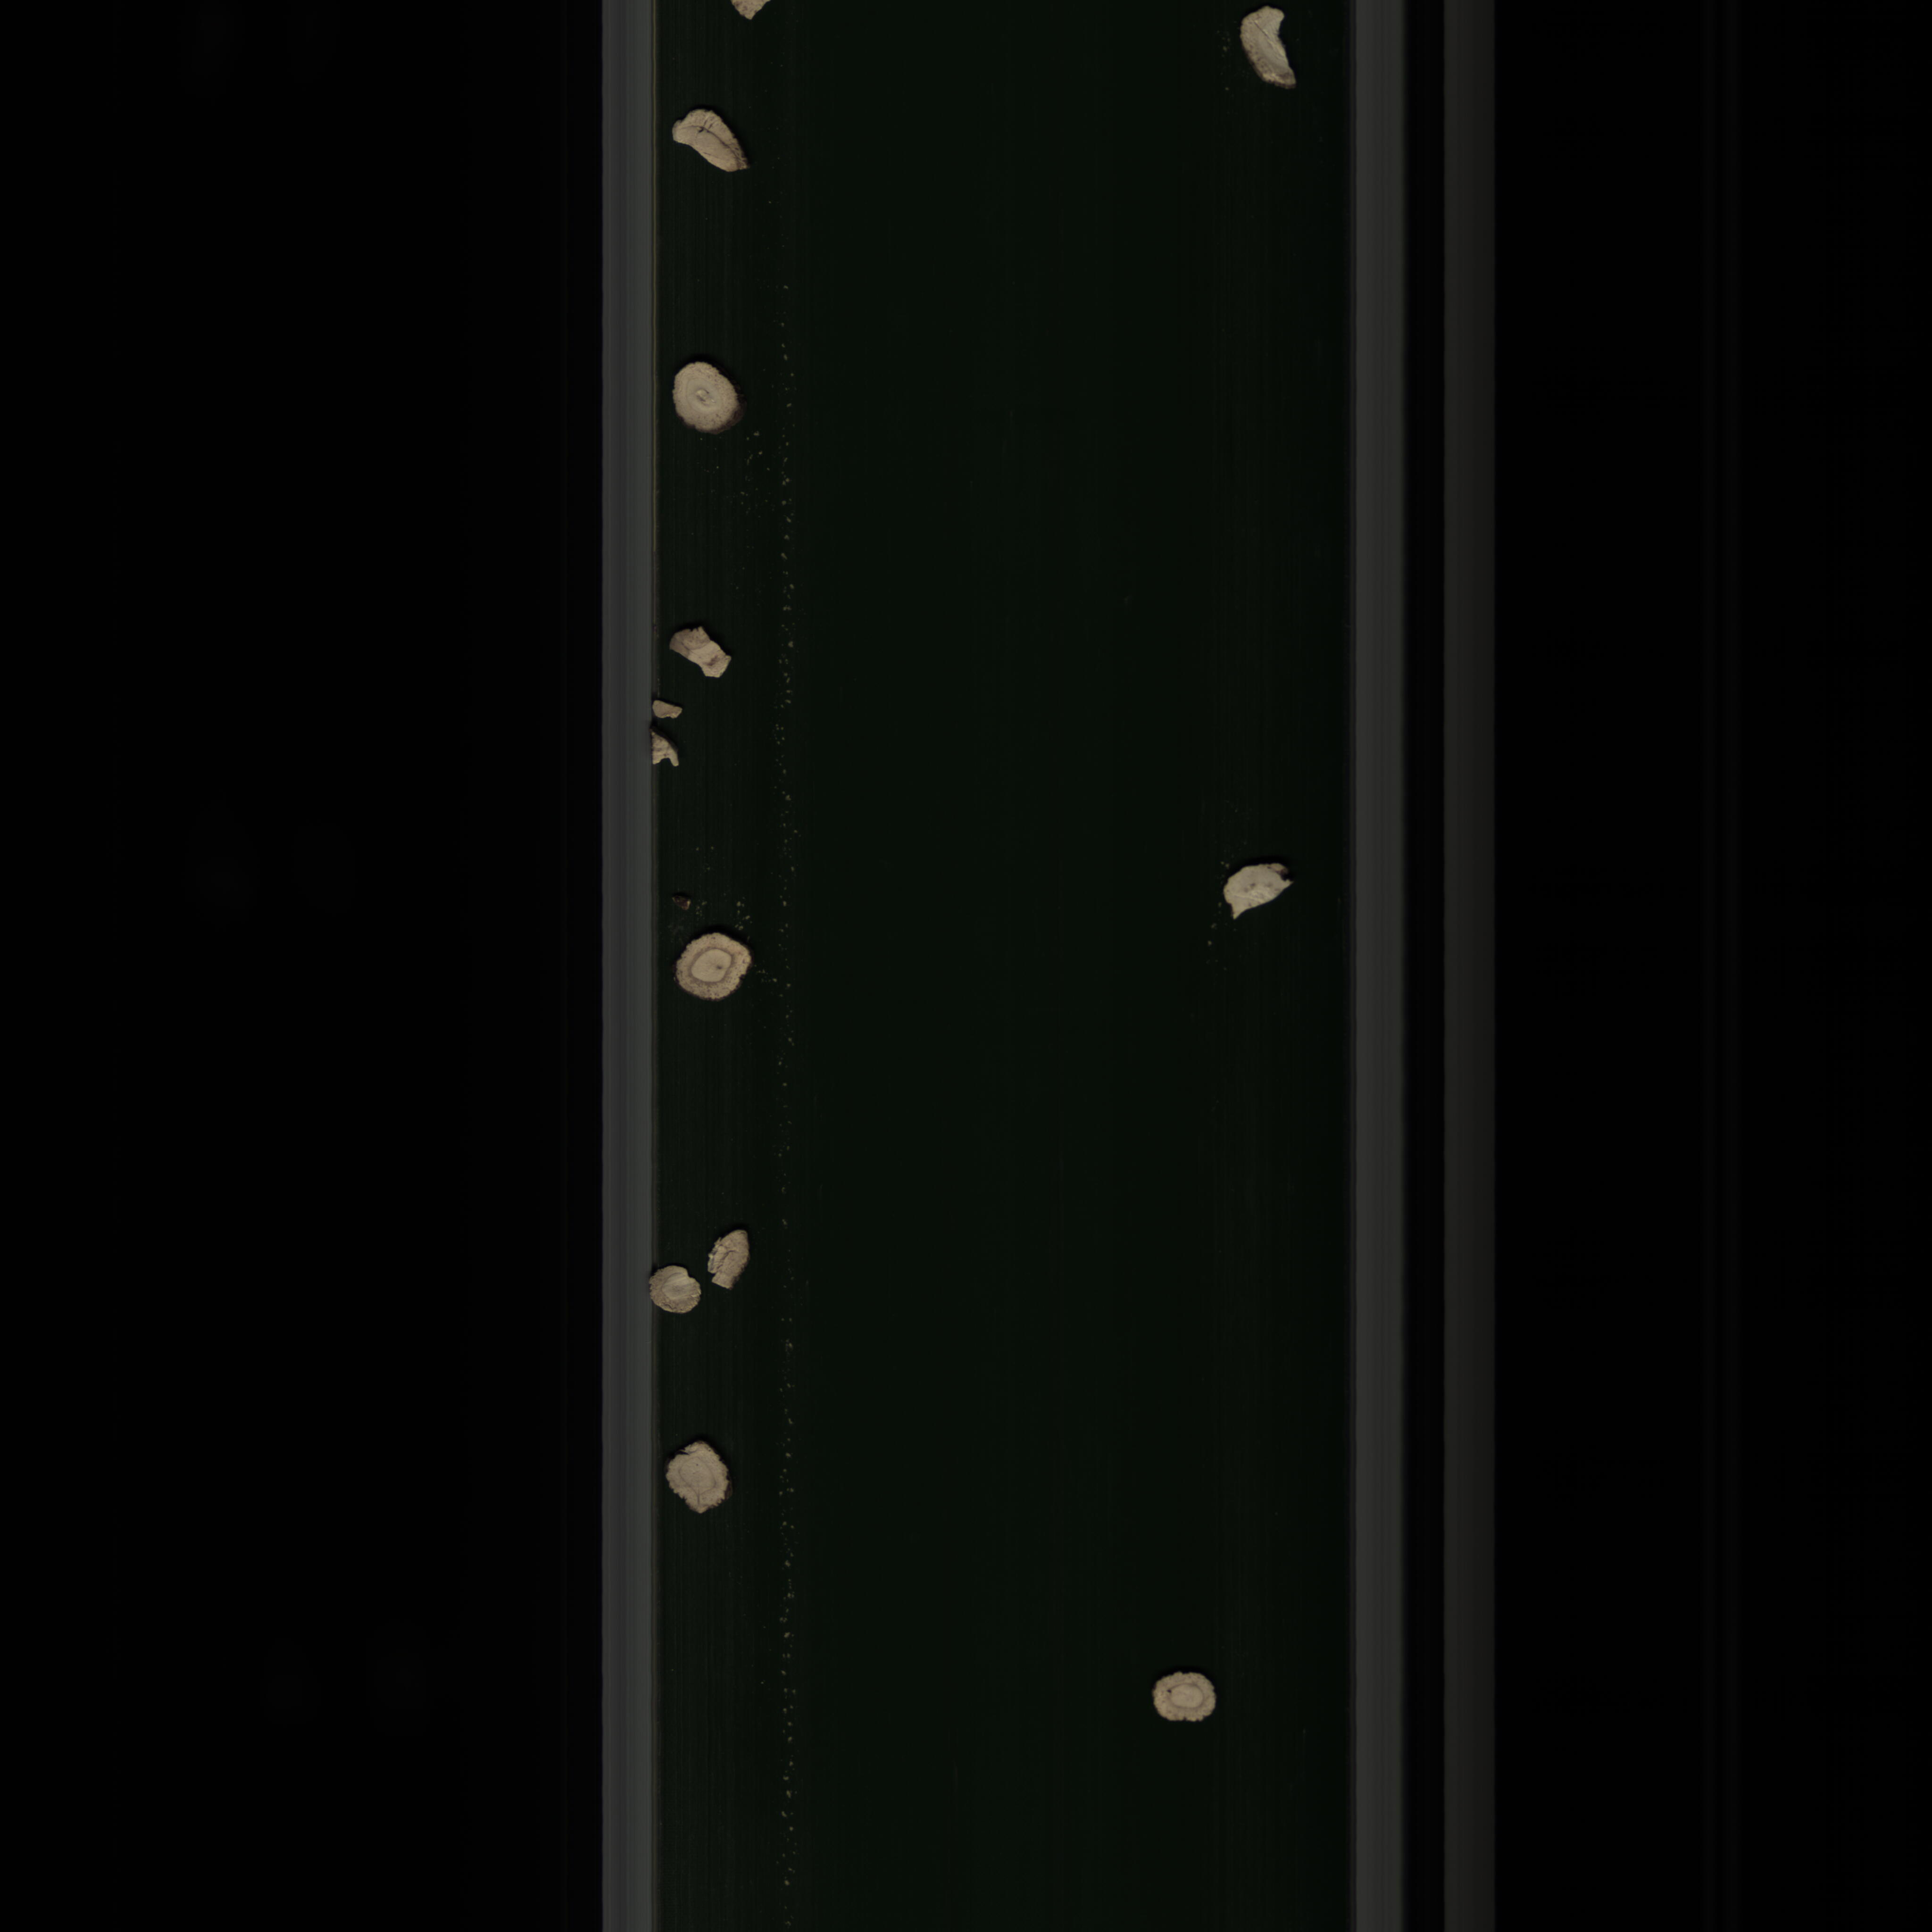debris: (1219, 7, 1307, 94), (662, 103, 750, 186), (1212, 856, 1293, 929), (658, 617, 740, 688), (648, 1260, 711, 1316), (706, 1226, 752, 1284), (648, 725, 683, 771), (644, 695, 686, 725)
